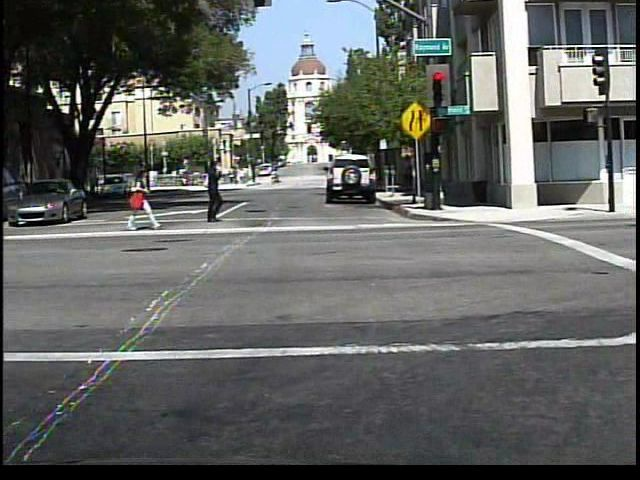person: (120, 162, 156, 234), (192, 158, 230, 223), (274, 166, 275, 187), (275, 168, 276, 188)
